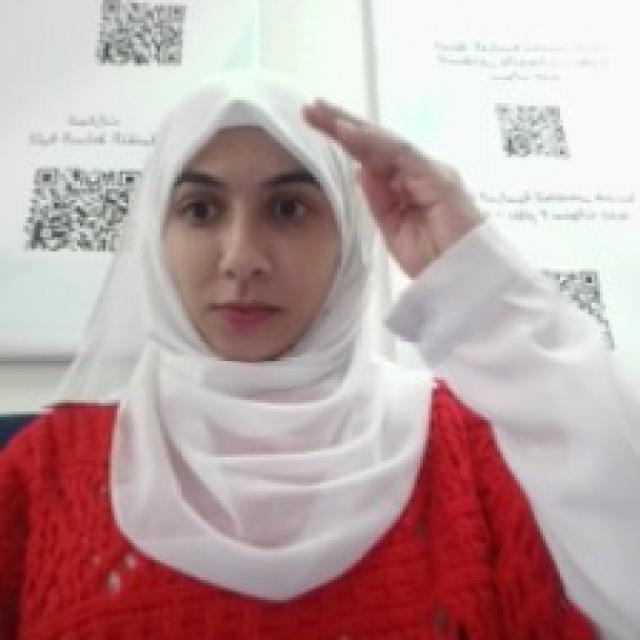Thanks: (294, 89, 489, 280)
